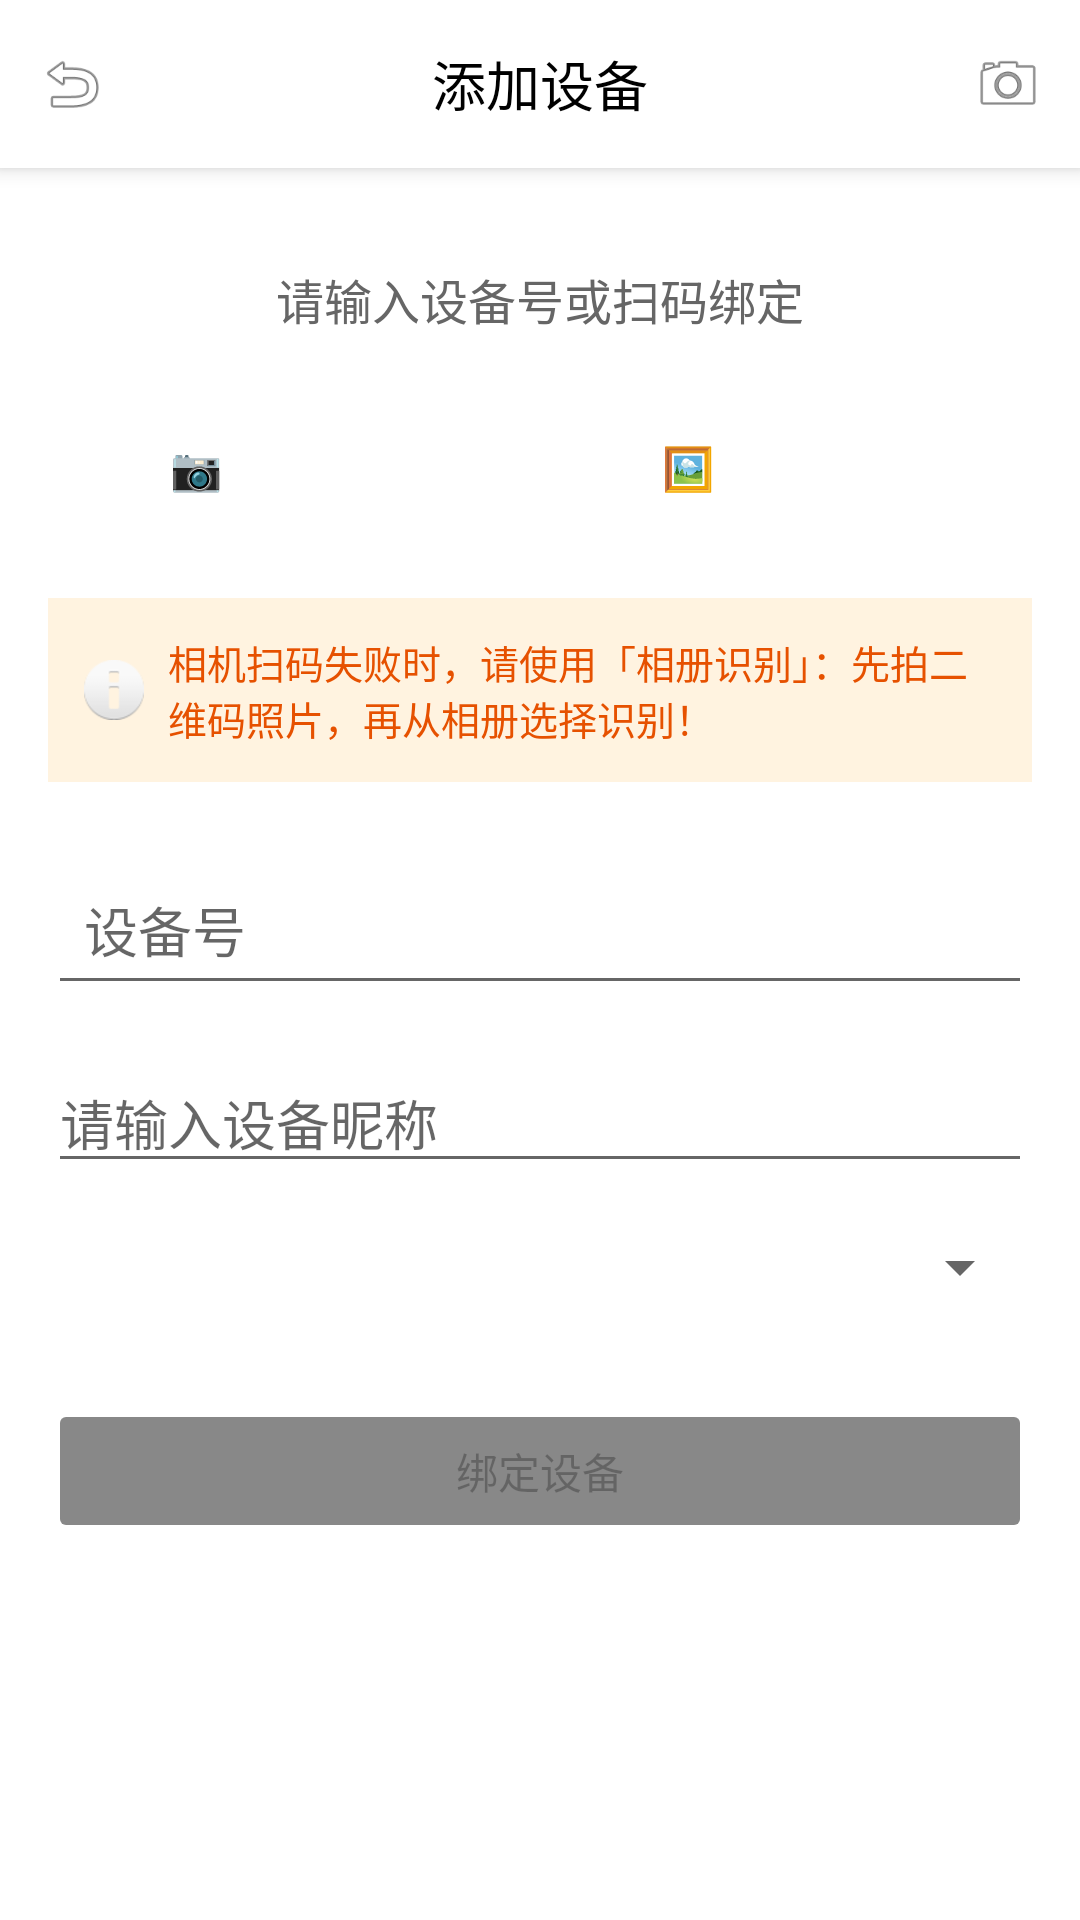

Point at icon controls on the screen. Image size 1080×1920, points as (x,y).
info: (114,690)
返回: (73,84)
